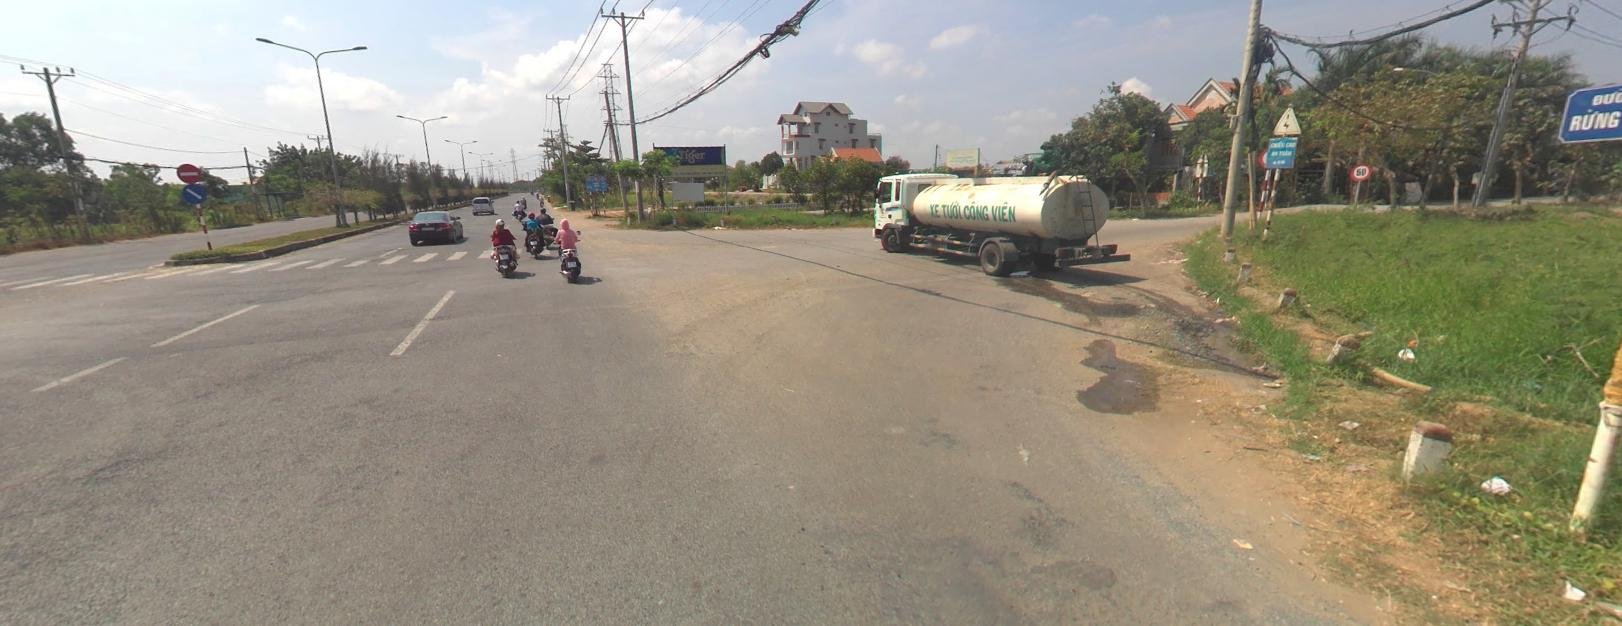Cam nguoc chieu: (177, 162, 199, 181)
Gioi han toc do: (1349, 162, 1369, 180)
Hieu lenh: (182, 183, 206, 203)
Nguy hiem: (1270, 105, 1301, 133)
